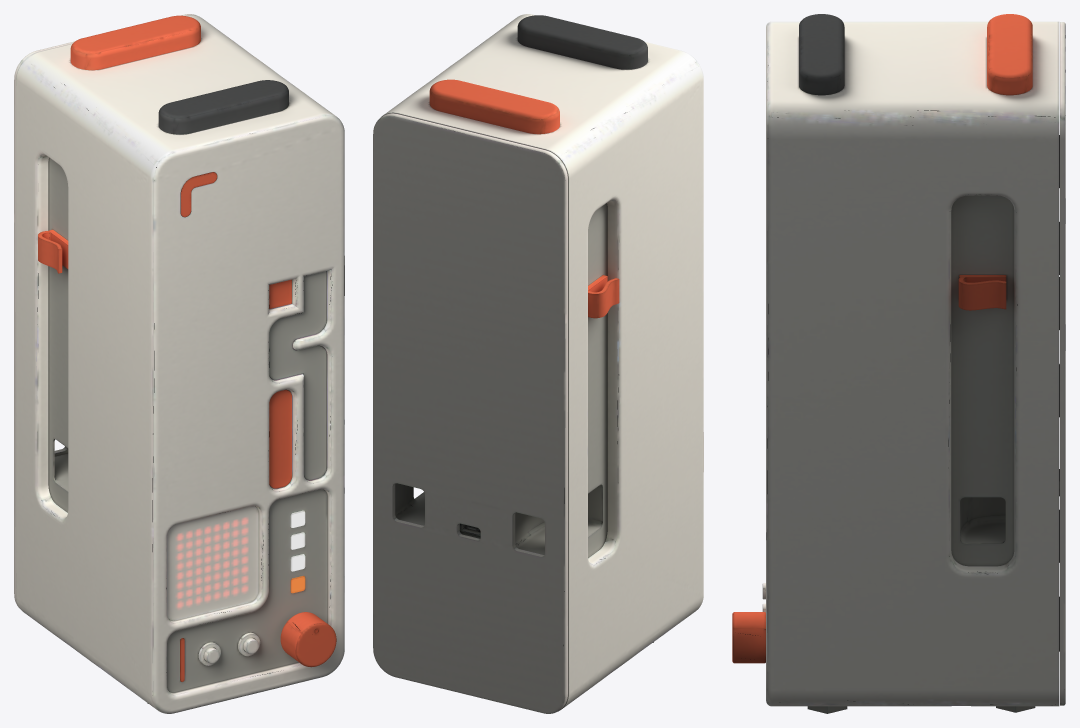
The model's file is headphone-stand-baked.glb.
3 renders of one model, left to right at view 1: azimuth 30°, elevation 25°; view 2: azimuth 150°, elevation 25°; view 3: azimuth 270°, elevation 25°, orthographic. The views are drawn at different scales.
Parts seen in each view (by area): view 1: Headphone Stand / white-orange; view 2: Headphone Stand / white-orange; view 3: Headphone Stand / white-orange.
Boxes of the visible parts, left/top/right/bottom form: Headphone Stand / white-orange: left=14, top=14, right=344, bottom=713; Headphone Stand / white-orange: left=373, top=14, right=703, bottom=713; Headphone Stand / white-orange: left=732, top=14, right=1065, bottom=713.
Bounding box in the file's own units: 0.0894 × 0.244 × 0.1168.
1 material, 1 textured.
